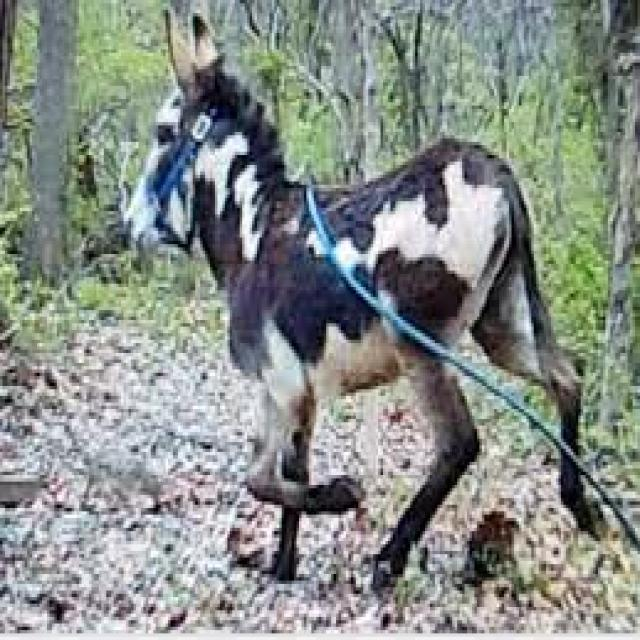donkey: (124, 13, 596, 584)
